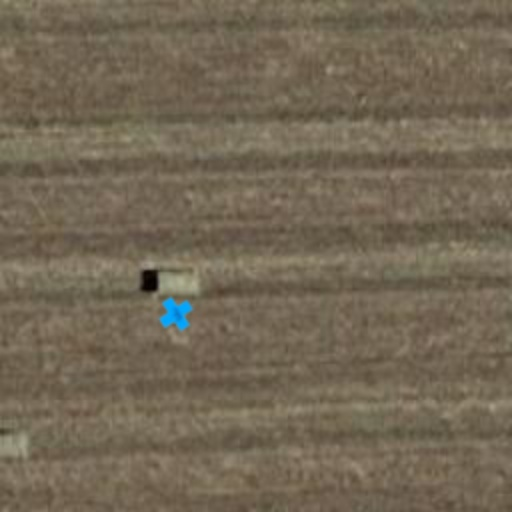cross: (152, 290, 200, 338)
